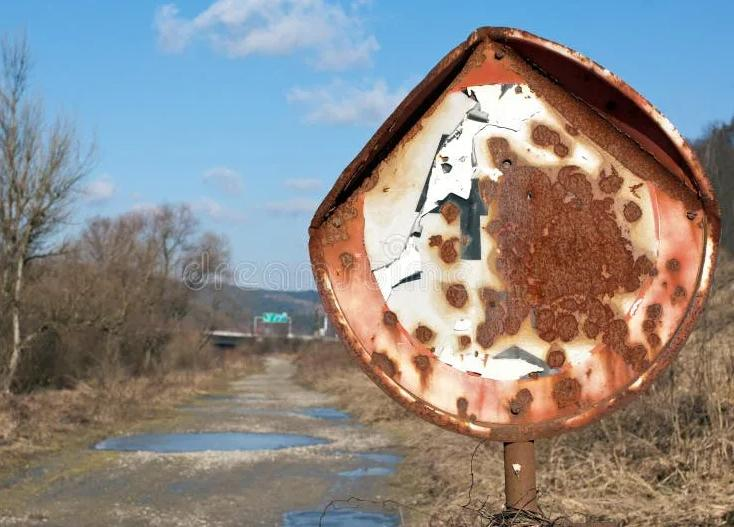obstructed_road_sign: (310, 29, 720, 442)
